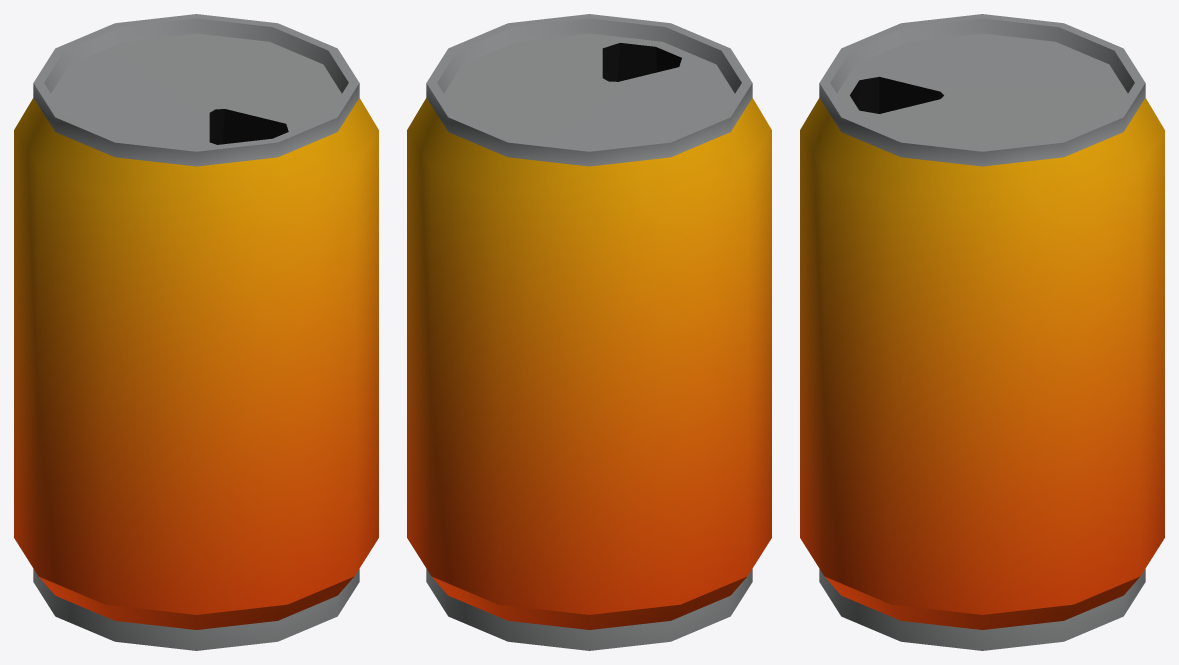
The model's file is Can_Orange.fbx.
3 views of the same model, side by side, from view 1: azimuth 30°, elevation 25°; view 2: azimuth 150°, elevation 25°; view 3: azimuth 270°, elevation 25° (orthographic).
Parts seen in each view (by area): view 1: Can_Orange; view 2: Can_Orange; view 3: Can_Orange.
Boxes of the visible parts, left/top/right/bottom form: Can_Orange: left=14, top=14, right=378, bottom=650; Can_Orange: left=407, top=14, right=771, bottom=650; Can_Orange: left=800, top=14, right=1164, bottom=650.
Size of the model in its own units: 9.25 by 13.95 by 9.25.
